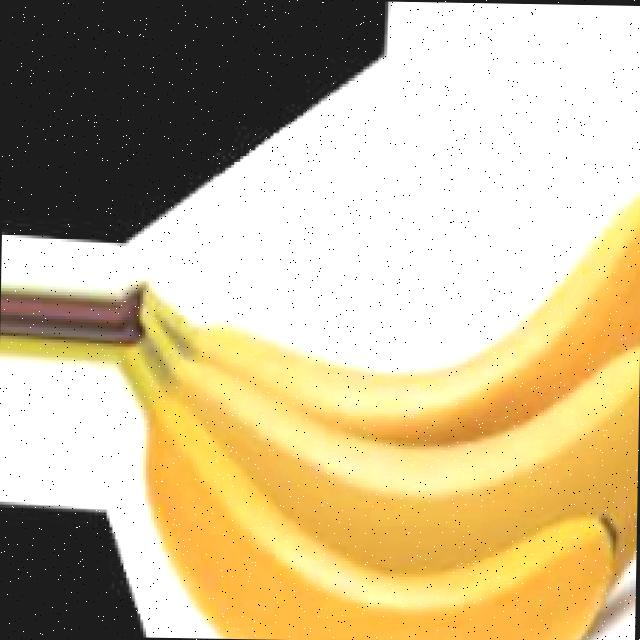banana: (121, 171, 640, 640)
